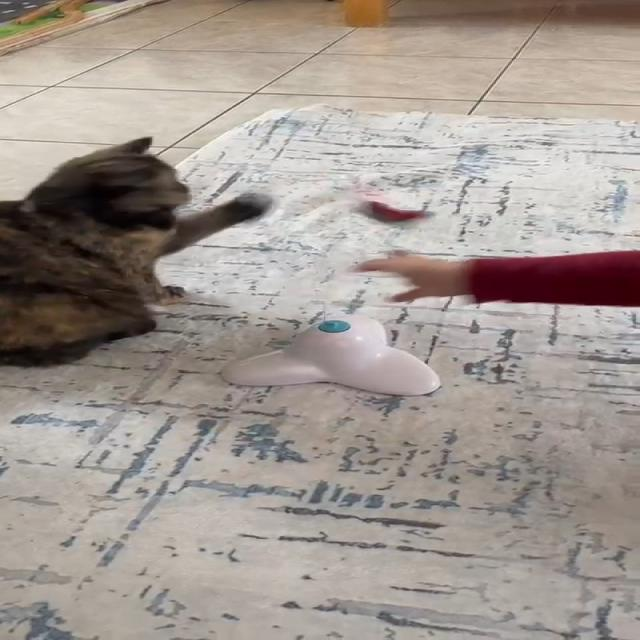authorized: (0, 135, 273, 367)
